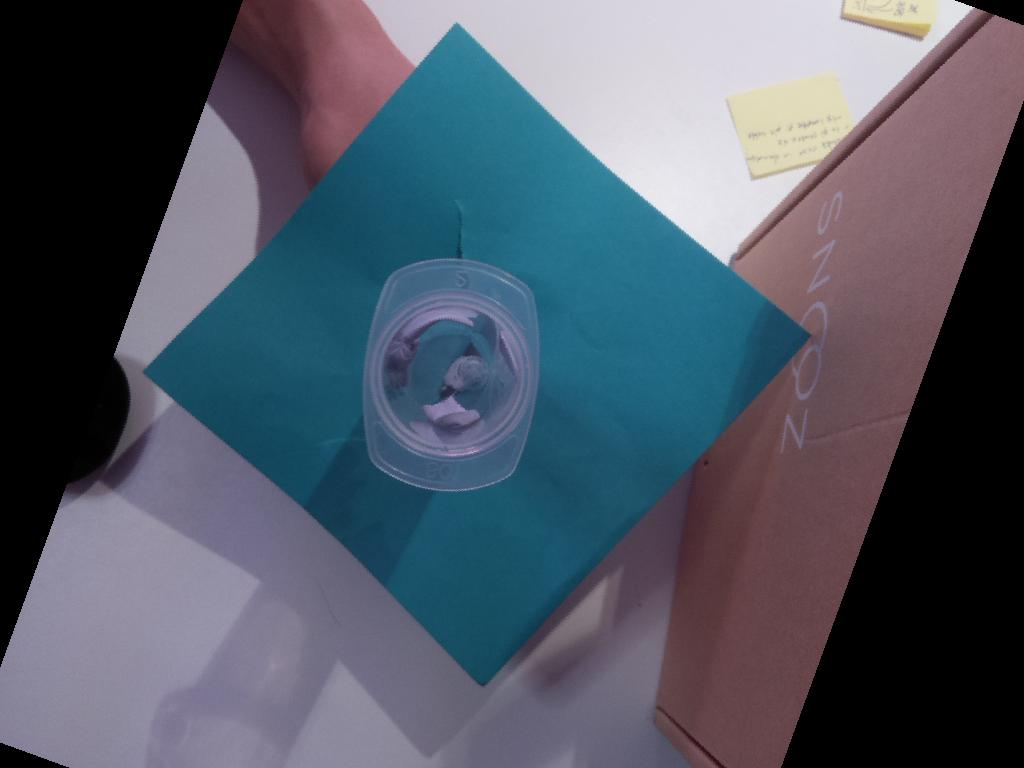dirty: (363, 259, 539, 492)
